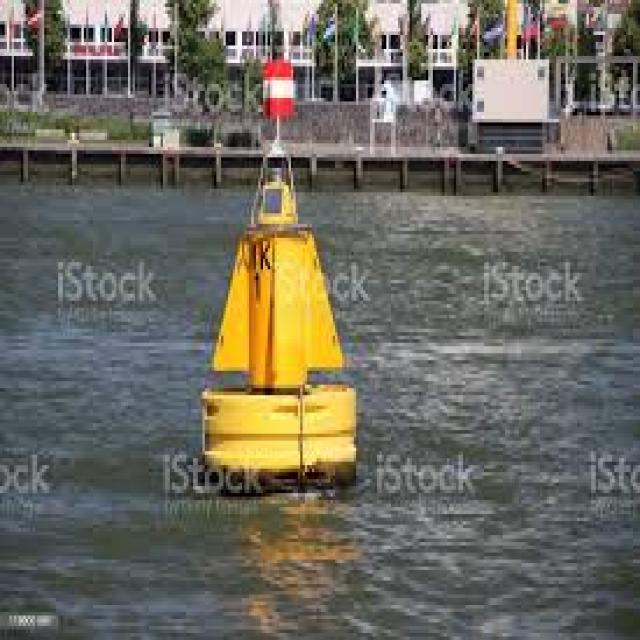buoy: (183, 38, 371, 514)
